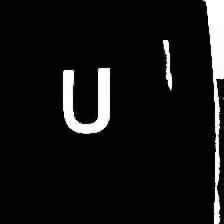LTR_U: (53, 62, 118, 137)
